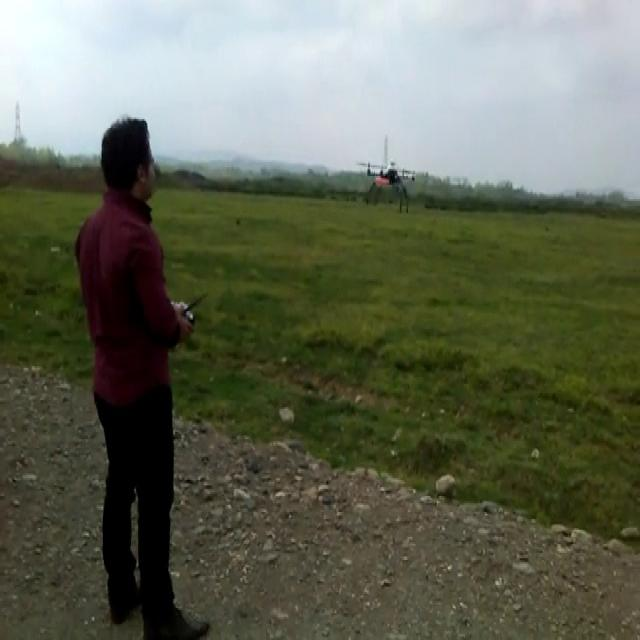drone: (357, 160, 418, 212)
